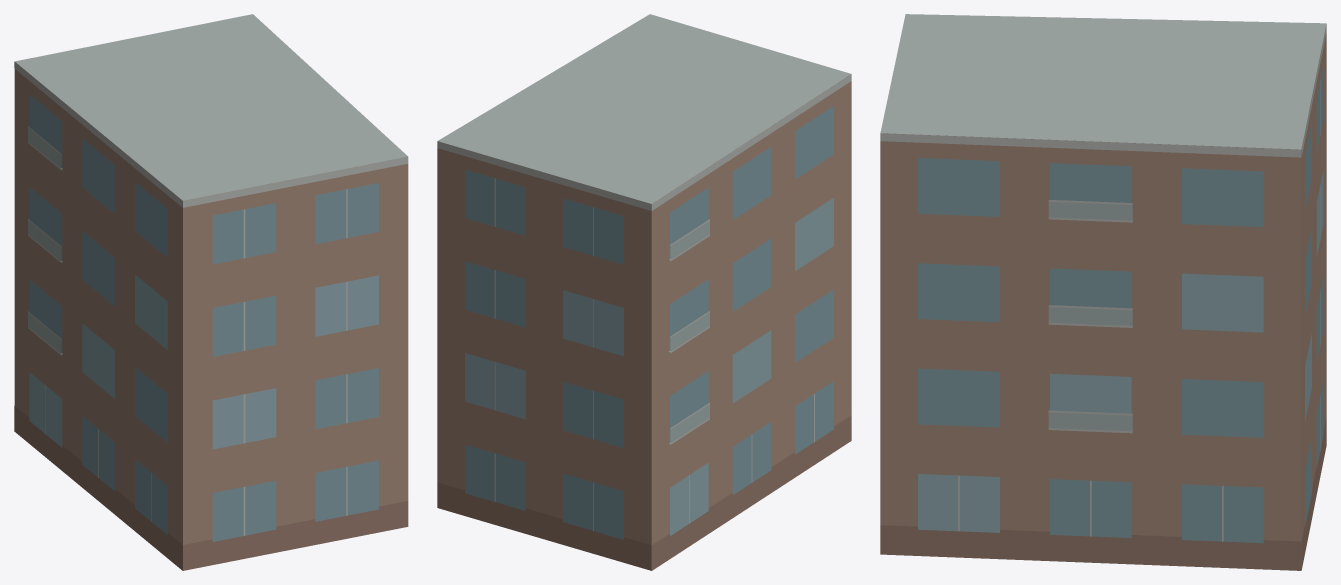
Rendered from survey-upis-33023731.glb.
3 views of the same model, side by side, from view 1: azimuth 30°, elevation 25°; view 2: azimuth 150°, elevation 25°; view 3: azimuth 270°, elevation 25° (orthographic). The views are drawn at different scales.
Parts seen in each view (by area): view 1: survey-upis-33023731.tmp; view 2: survey-upis-33023731.tmp; view 3: survey-upis-33023731.tmp.
Boxes of the visible parts, <box> form: survey-upis-33023731.tmp: <box>14,14,408,570</box>; survey-upis-33023731.tmp: <box>437,14,851,570</box>; survey-upis-33023731.tmp: <box>880,14,1326,570</box>.
Size of the model in its own units: 8.84 by 12.8 by 12.3.
